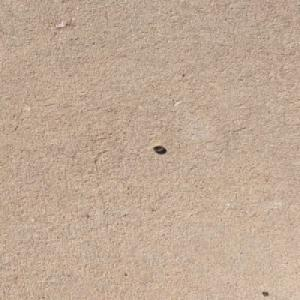Nut: (152, 144, 165, 152)
